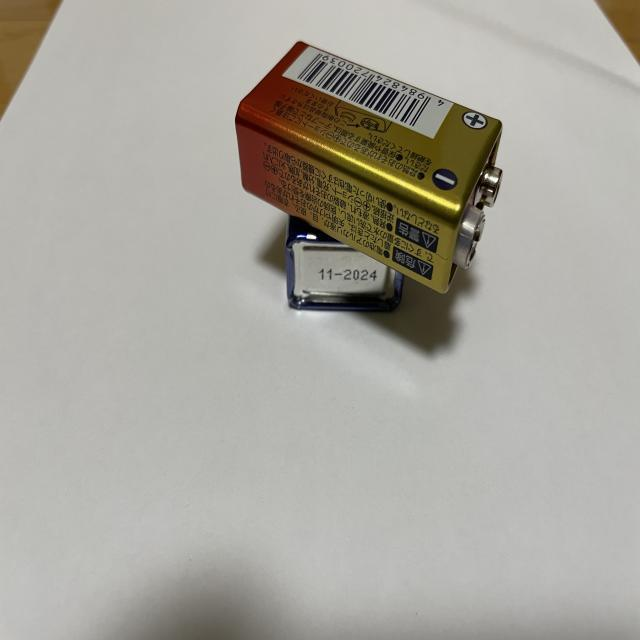9V: (235, 38, 504, 295), (282, 213, 404, 314)
